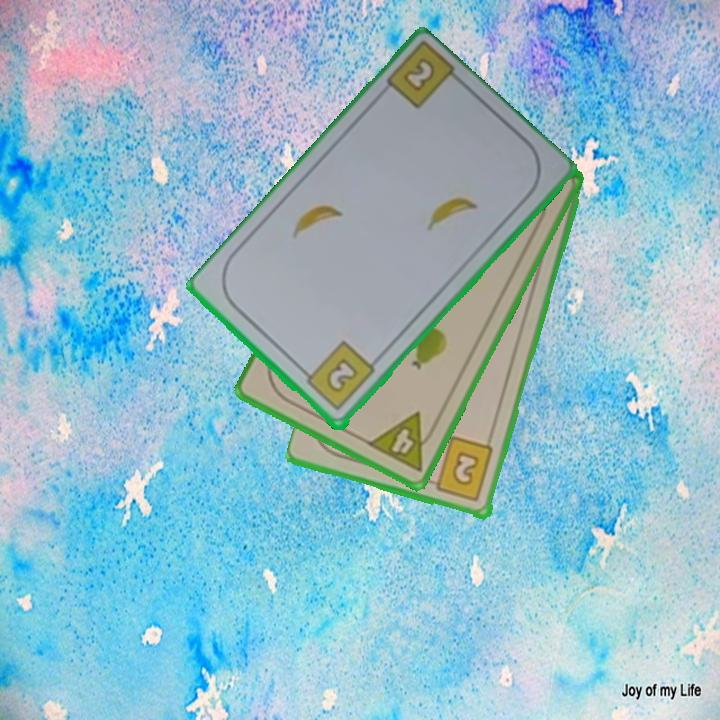2b: (298, 338, 378, 414), (424, 434, 497, 505), (399, 54, 439, 95)
4p: (364, 408, 442, 475)
